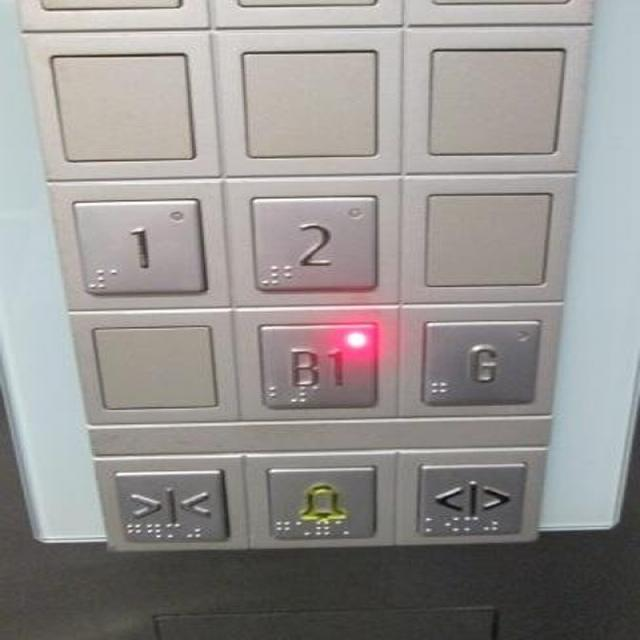1: (68, 195, 209, 296)
2: (246, 193, 382, 294)
B1: (254, 322, 382, 411)
G: (417, 319, 540, 403)
alarm: (259, 464, 380, 542)
close: (111, 467, 232, 547)
empty: (47, 48, 201, 165), (235, 43, 384, 163), (417, 41, 567, 159), (413, 183, 555, 291), (87, 320, 221, 416)
open: (412, 461, 525, 539)
